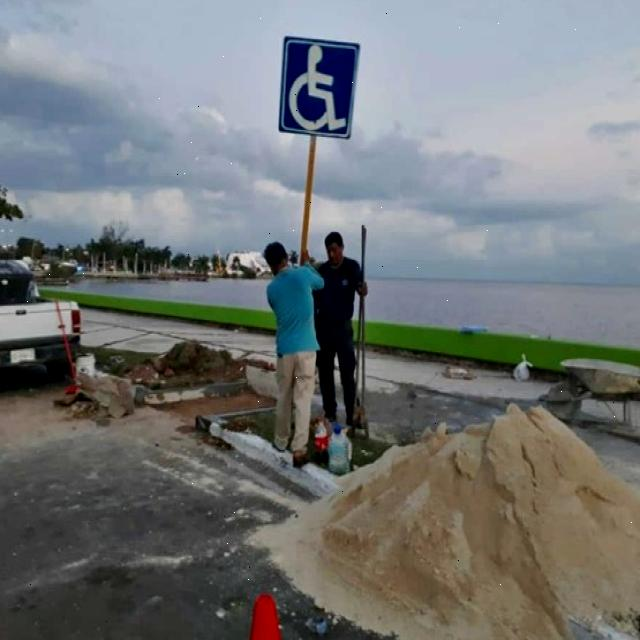symbol_of_access: (274, 32, 363, 140)
